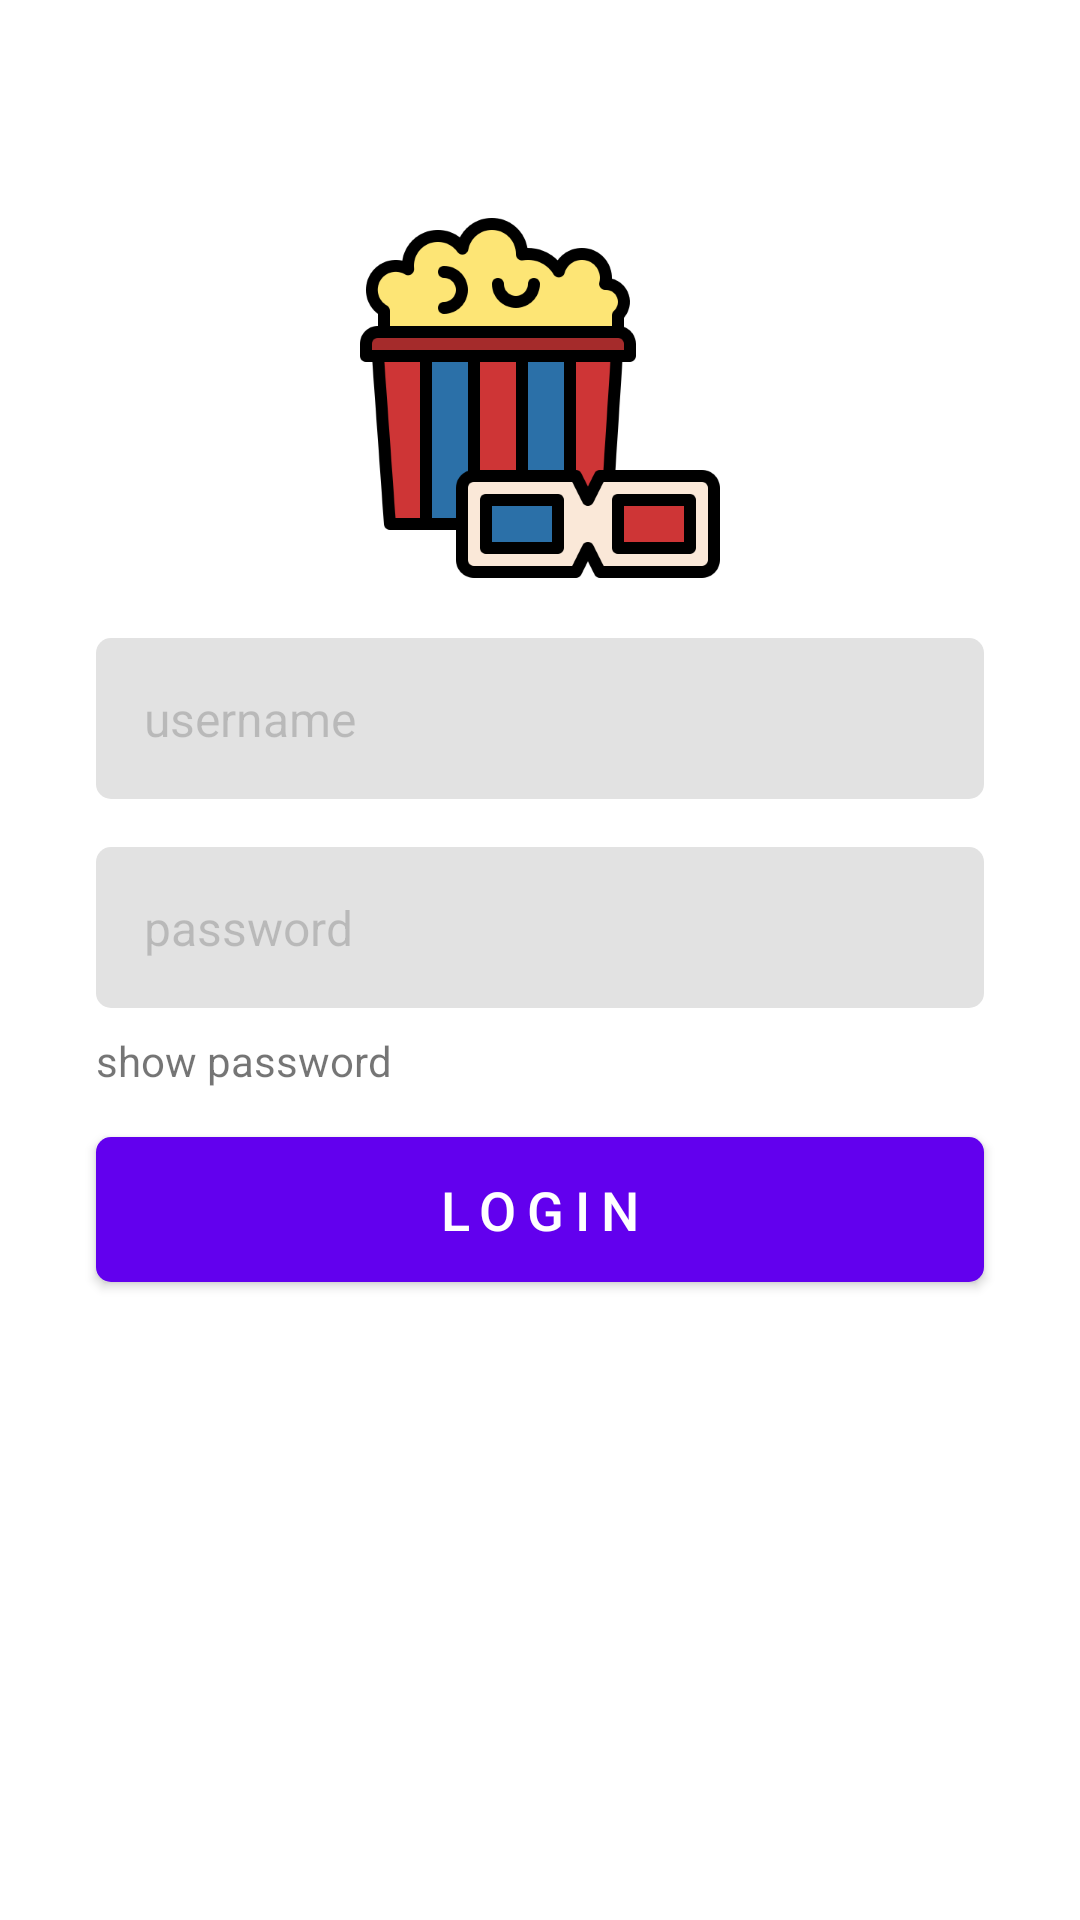

Icon bounding boxes for this 1080*1920 phone screenshot, format region(x1, y1, x2, y2):
movie: region(360, 218, 720, 578)
